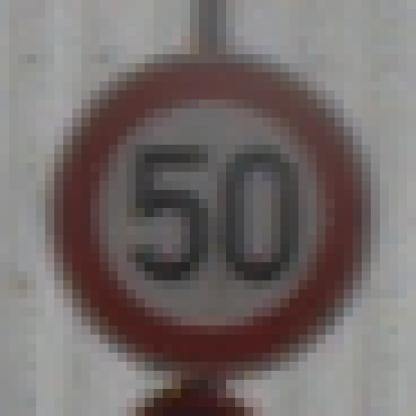Speed Limit 50: (65, 59, 366, 367)
